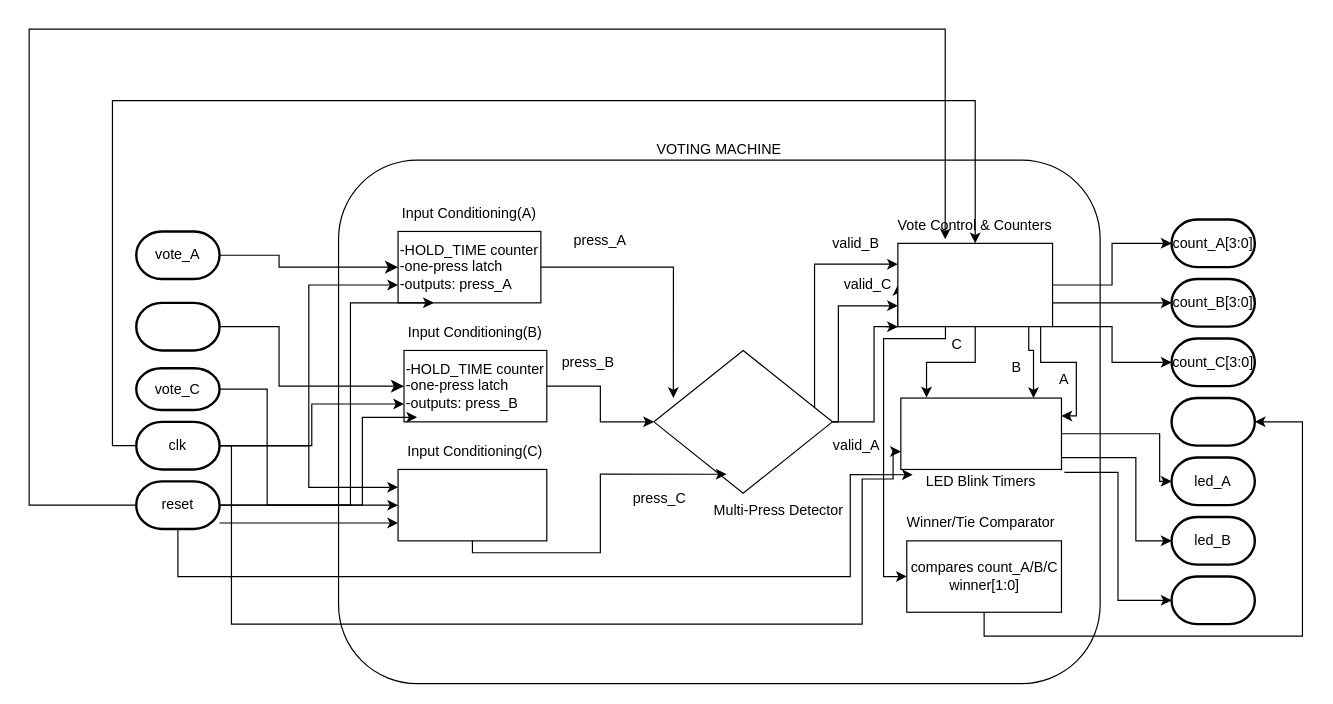
Some shapes in this 1333 by 704 pixel diagram are drawn without their labels. Each missing label, with the centre of its shape:
"-HOLD_TIME counter -one-press latch -outputs: press_C" belongs at pixel 472 504.
"blocks if >1 pressed multiple_votes= (A&B)|(A&C)|(B&C)" belongs at pixel 742 421.
"count_A/B/C[3:0] gated by valid_press_X" belongs at pixel 975 284.
"led_C" belongs at pixel 1212 600.
"per-candidate down-counters led_X=(ctr_X>0)" belongs at pixel 980 433.
"vote_B" belongs at pixel 177 326.
"winner[1:0]" belongs at pixel 1212 421.
